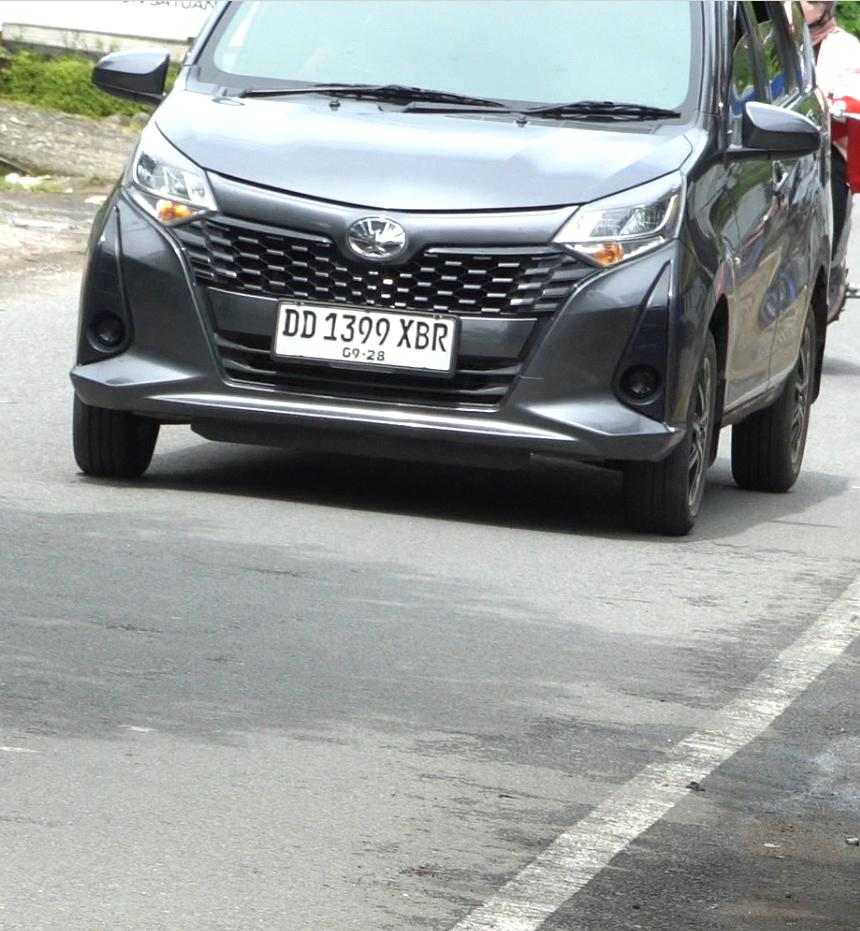number-plate: (274, 292, 459, 378)
